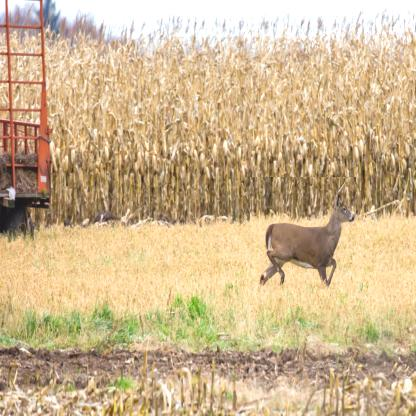Deer: (250, 178, 356, 306)
